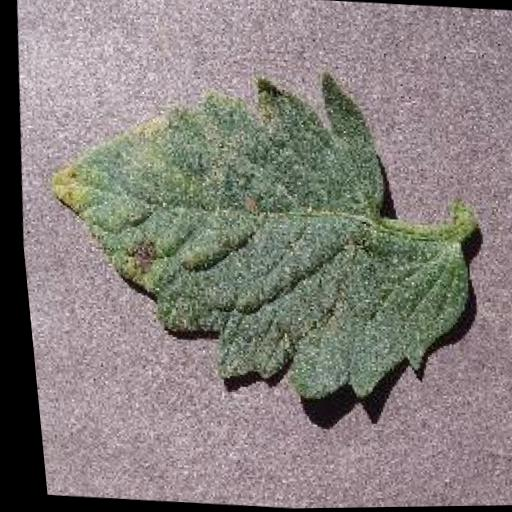Early Blight: (24, 54, 490, 413)
